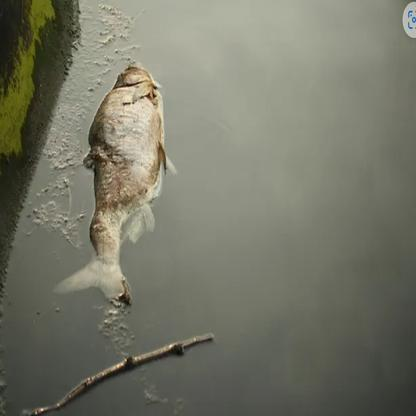deceased fish: (63, 67, 162, 303)
